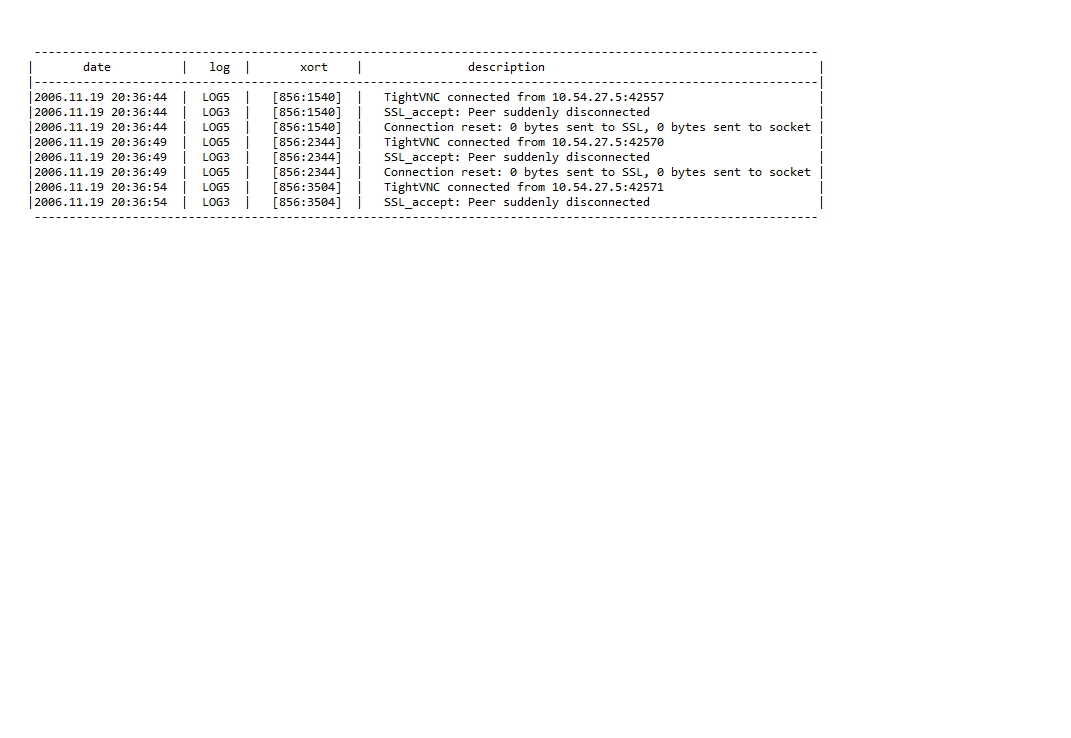table: (25, 47, 827, 223)
